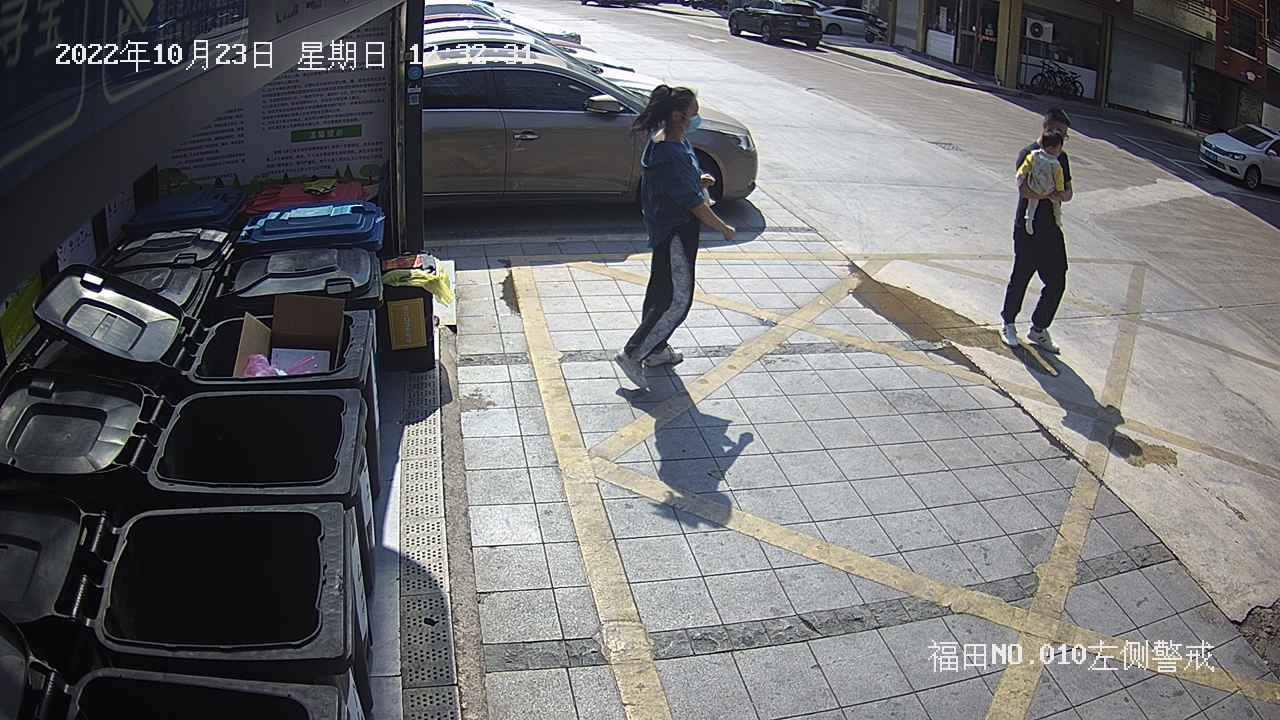person: (607, 76, 744, 396), (996, 102, 1079, 360)
